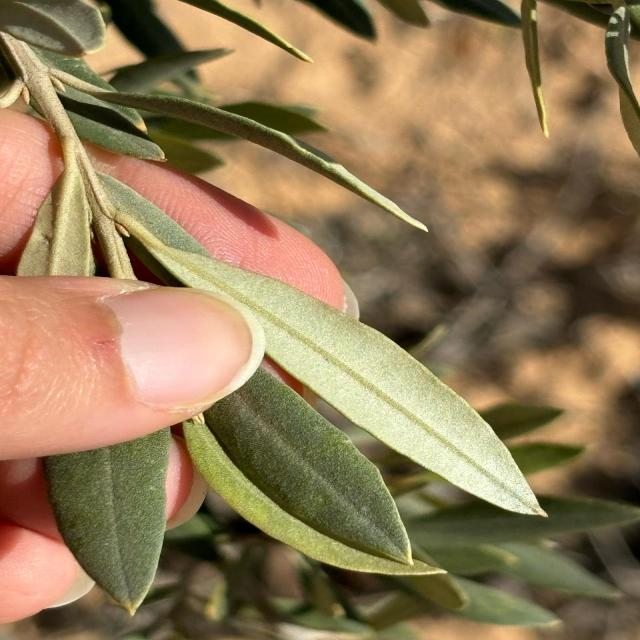Healthy: (119, 208, 545, 516)
